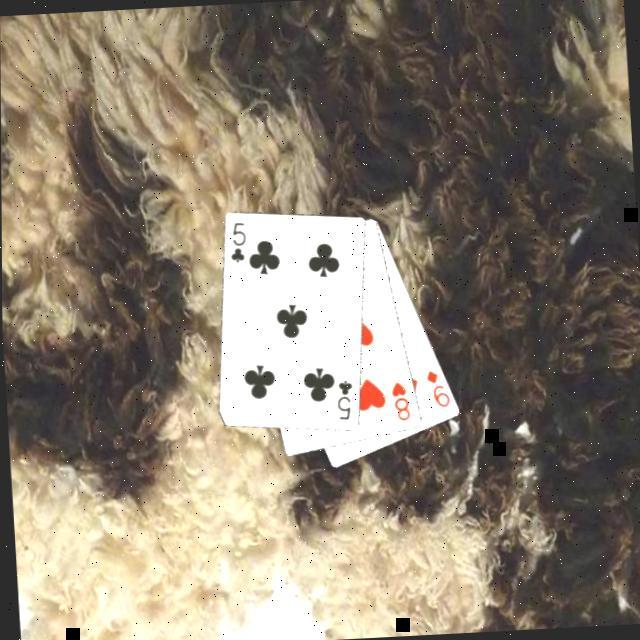5C: (335, 379, 359, 426), (228, 221, 252, 268)
8H: (389, 380, 415, 427)
9D: (425, 368, 455, 413)
